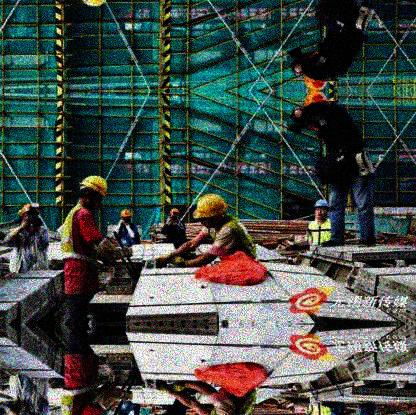helmet: (192, 193, 228, 232), (77, 176, 108, 210), (311, 197, 331, 222), (121, 209, 133, 225)
